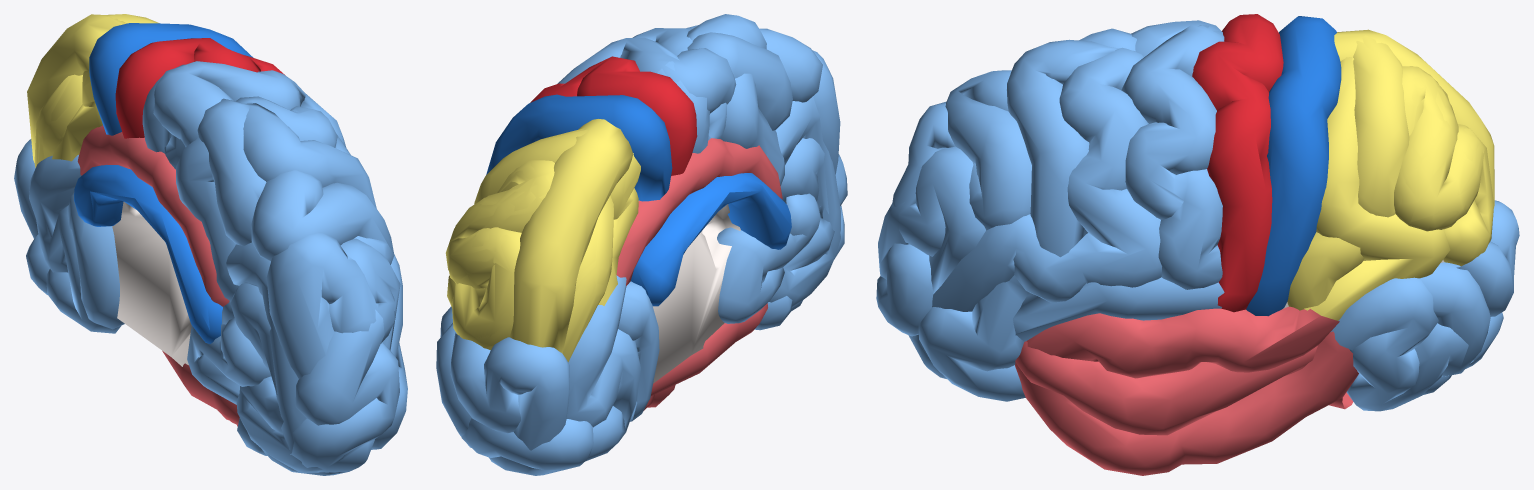
Rendered from halfOPT.fbx.
3 renders of one model, left to right at view 1: azimuth 30°, elevation 25°; view 2: azimuth 150°, elevation 25°; view 3: azimuth 270°, elevation 25°, orthographic. The views are drawn at different scales.
Visible parts, largest first — view 1: Cube.013; view 2: Cube.013; view 3: Cube.013.
Boxes of the visible parts, bbox=[...] form: Cube.013: bbox=[14, 14, 407, 475]; Cube.013: bbox=[436, 14, 847, 475]; Cube.013: bbox=[876, 14, 1519, 475].
Size of the model in its own units: 876 by 1545 by 2258.
